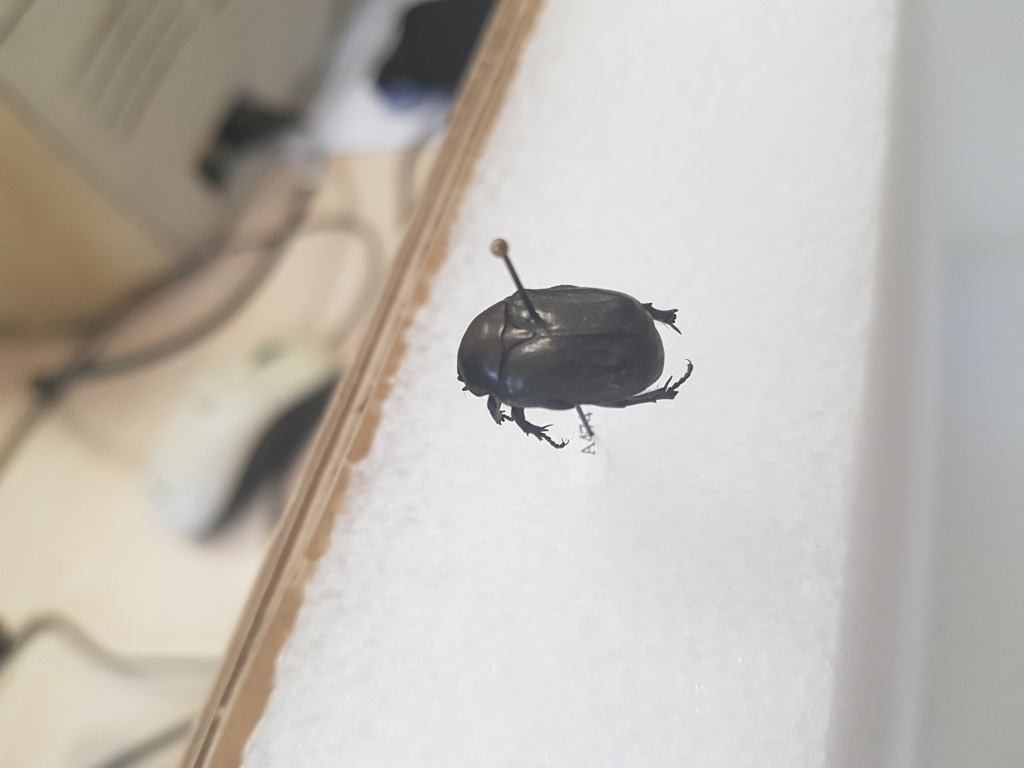Protaetia_vidua: (443, 286, 709, 458)
